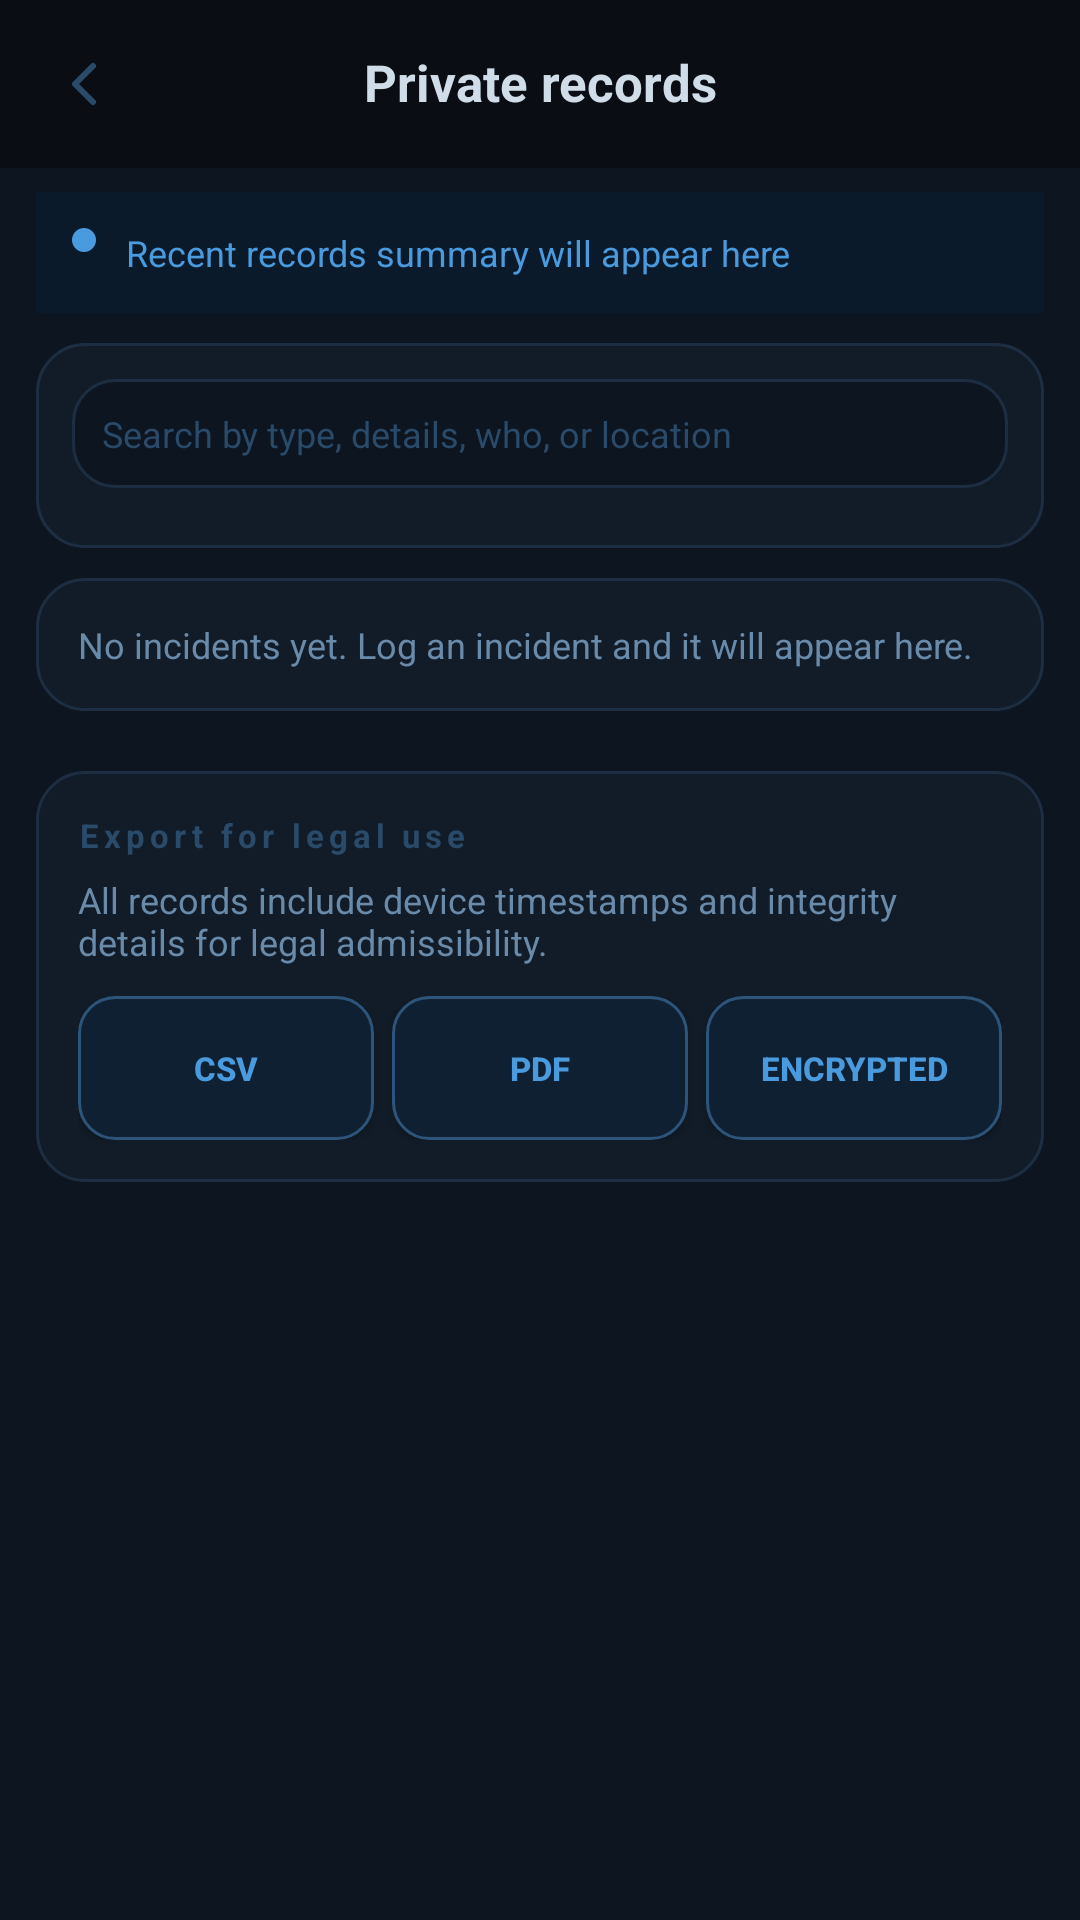

Icons on this 1080px x 1920px Android screen, each with the point to tap as (x=x, y=y):
Back: (x=84, y=84)
